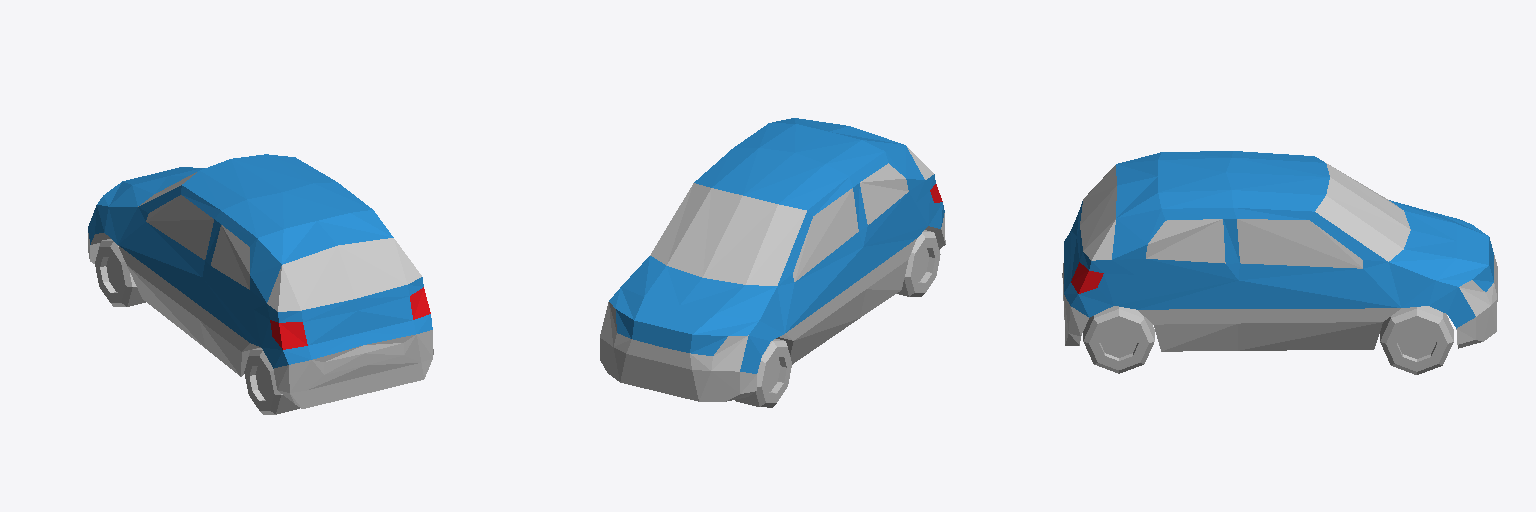
3 renders of one model, left to right at view 1: azimuth 30°, elevation 25°; view 2: azimuth 150°, elevation 25°; view 3: azimuth 270°, elevation 25°, orthographic.
Visible parts, largest first — view 1: Car_Carrosserie, Car_Base; view 2: Car_Carrosserie, Car_Base; view 3: Car_Carrosserie, Car_Base.
Boxes of the visible parts, <box> form: Car_Carrosserie: <box>88,154,432,368</box>; Car_Base: <box>88,172,433,414</box>; Car_Carrosserie: <box>609,118,944,373</box>; Car_Base: <box>600,147,945,407</box>; Car_Carrosserie: <box>1064,151,1493,328</box>; Car_Base: <box>1062,163,1497,374</box>.
Bounding box in the file's own units: 1.94 × 1.98 × 4.67.
3 materials, 2 textured.